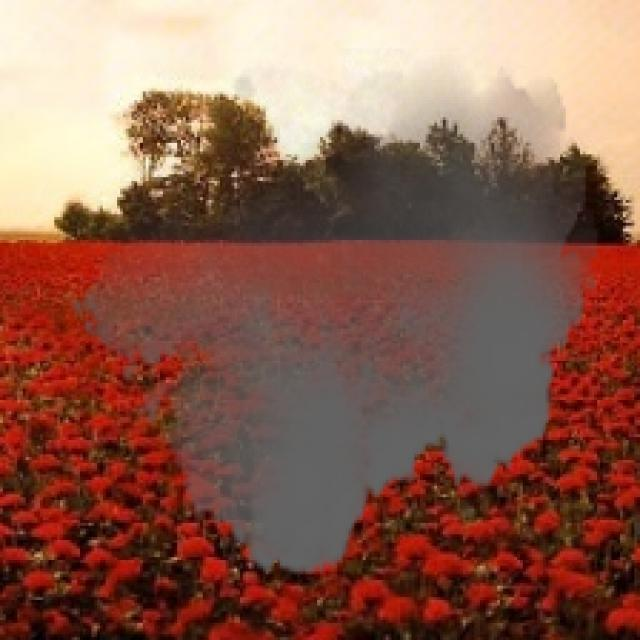Smoke: (68, 48, 598, 594)
